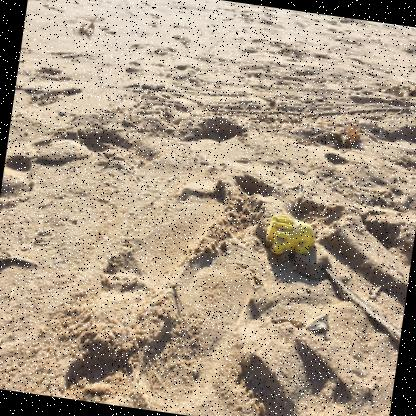Cigarette: (200, 161, 208, 164)
Other plastic bottle: (266, 214, 315, 254)
